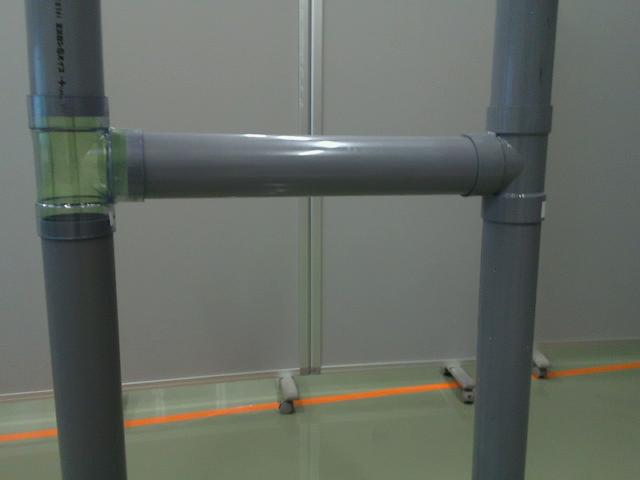junction: (23, 94, 146, 239), (458, 107, 556, 221)
